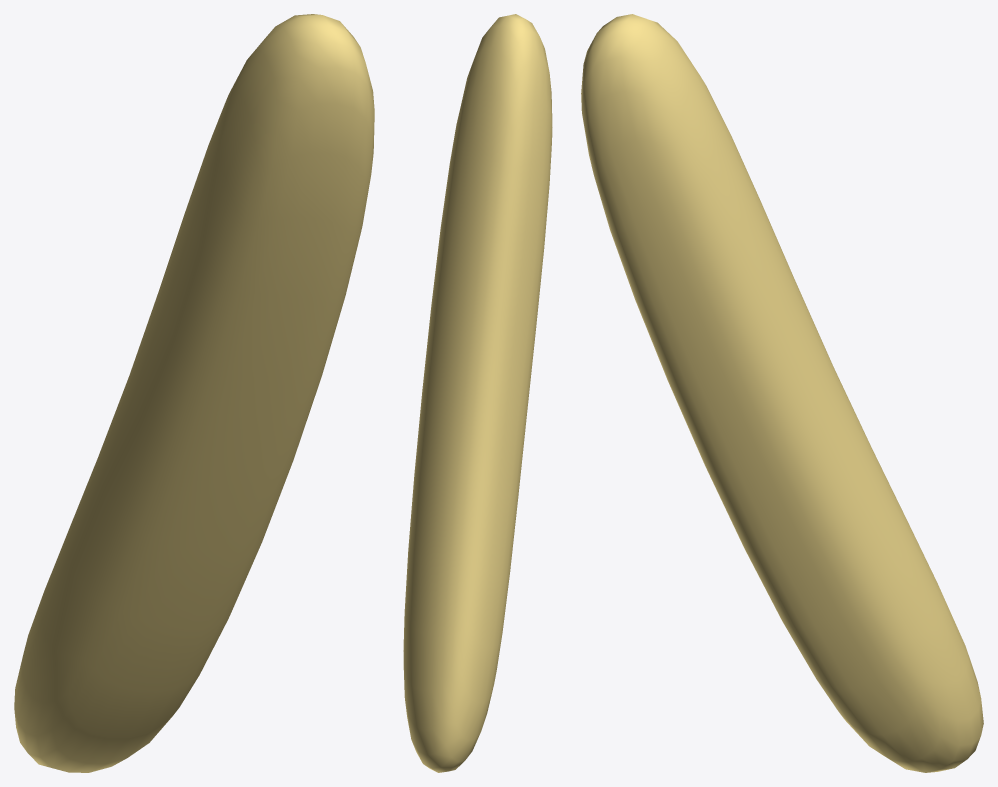
The picture shows the model from 3 angles, left to right: view 1: azimuth 30°, elevation 25°; view 2: azimuth 150°, elevation 25°; view 3: azimuth 270°, elevation 25°; orthographic projection. The views are drawn at different scales.
Parts seen in each view (by area): view 1: ZA_d99160d9a4f18a4e; view 2: ZA_d99160d9a4f18a4e; view 3: ZA_d99160d9a4f18a4e.
Part boxes in pixels (x1=…): ZA_d99160d9a4f18a4e: x1=14, y1=14, x2=374, y2=772; ZA_d99160d9a4f18a4e: x1=403, y1=14, x2=552, y2=772; ZA_d99160d9a4f18a4e: x1=581, y1=14, x2=983, y2=772.
Bounding box in the file's own units: 0.00146 × 0.00686 × 0.00319.
